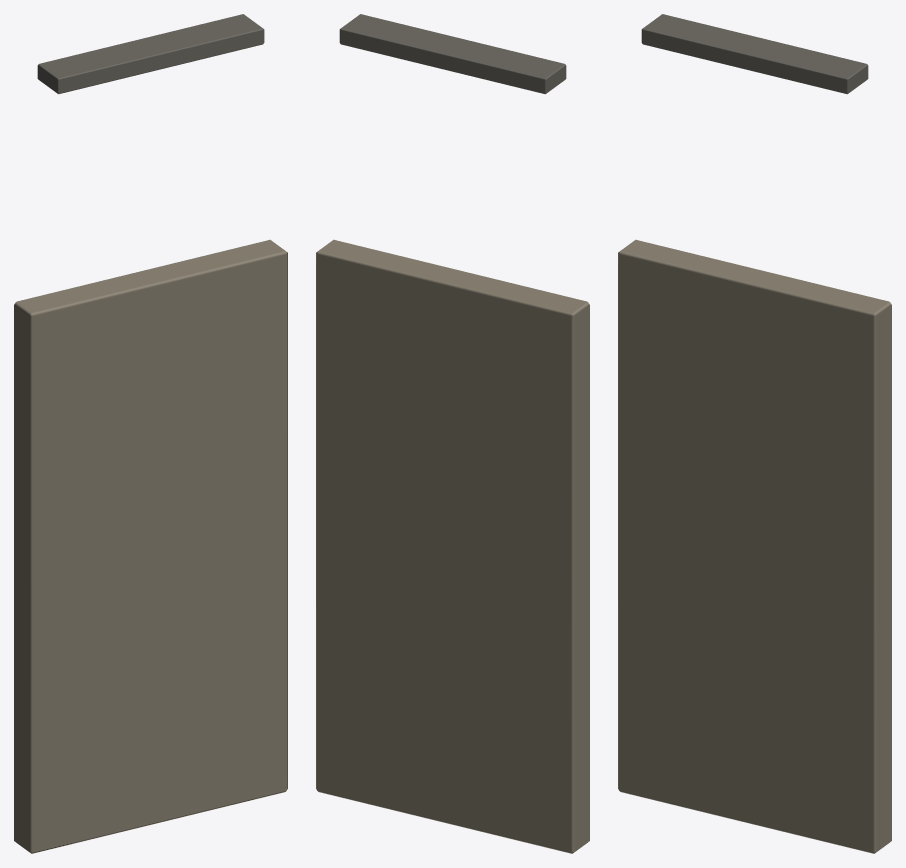
Rendered from village-window-sill.a3142b4d.glb.
3 views of the same model, side by side, from view 1: azimuth 30°, elevation 25°; view 2: azimuth 150°, elevation 25°; view 3: azimuth 330°, elevation 25° (orthographic).
Visible parts, largest first — view 1: body; view 2: body; view 3: body.
Boxes of the visible parts, x1=… form: body: x1=14, y1=14, x2=287, y2=853; body: x1=316, y1=14, x2=589, y2=853; body: x1=618, y1=14, x2=891, y2=853.
Bounding box in the file's own units: 1 × 2.85 × 0.14.
